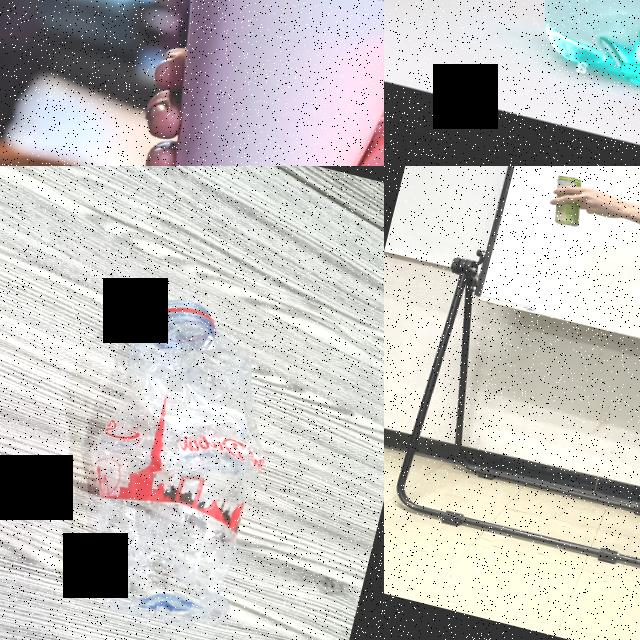bottle: (37, 273, 310, 632), (513, 0, 640, 110)
can: (545, 172, 590, 228)
cup: (123, 0, 384, 166)
